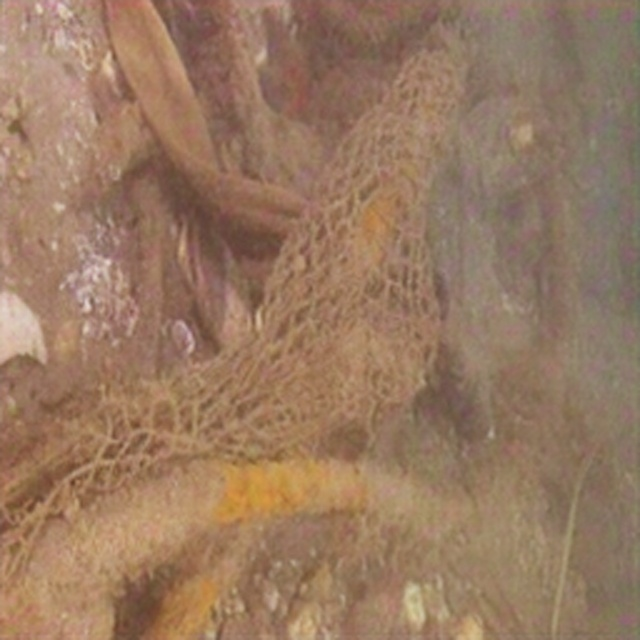mine: (0, 48, 458, 589)
